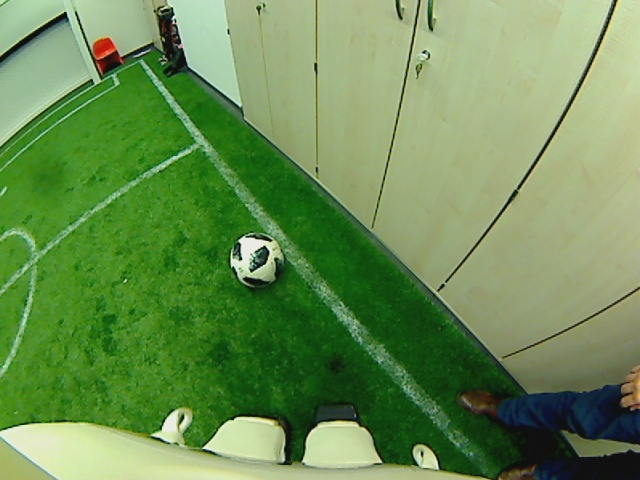ball: (228, 229, 283, 290)
